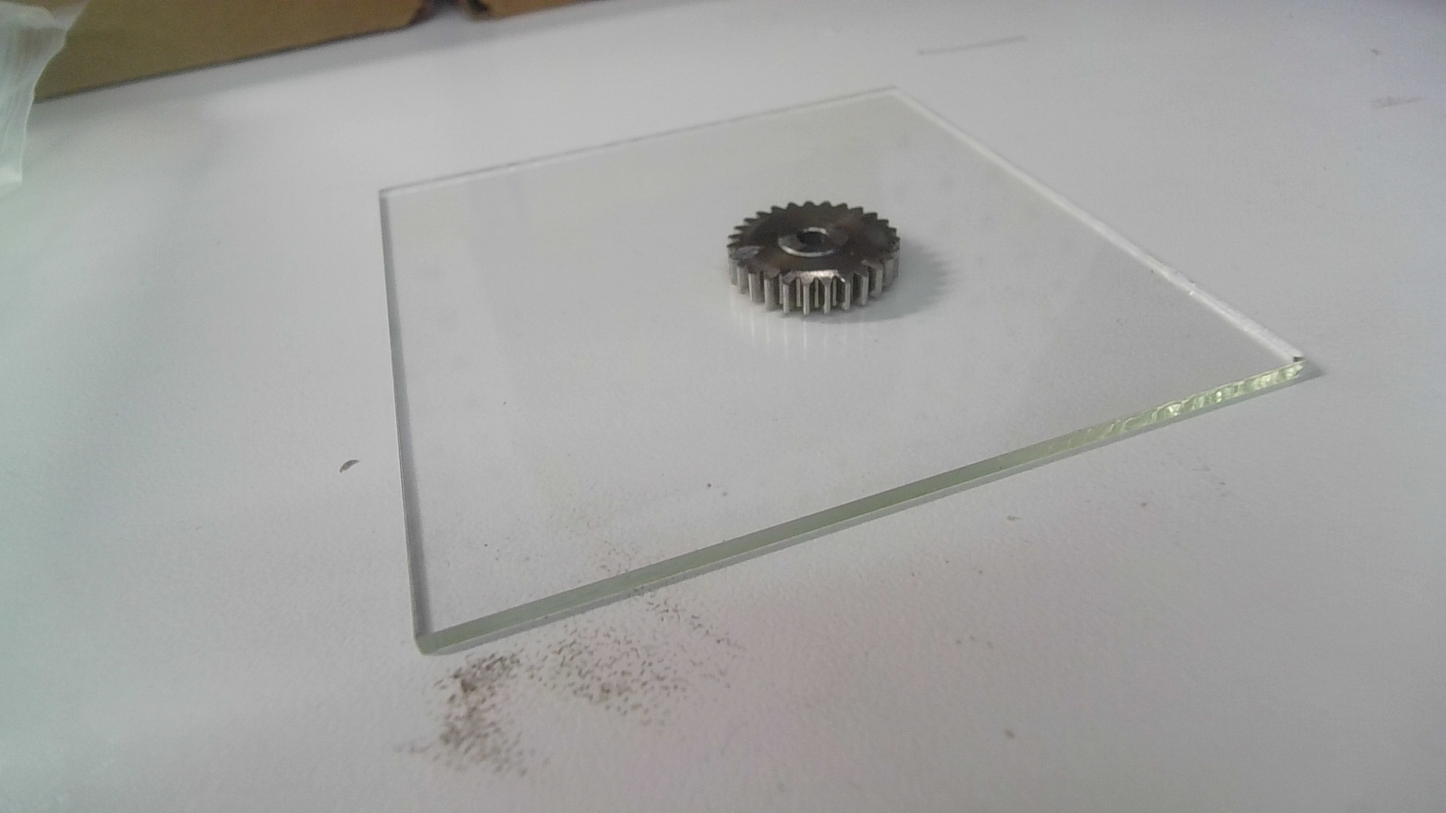gear: (722, 197, 906, 320)
